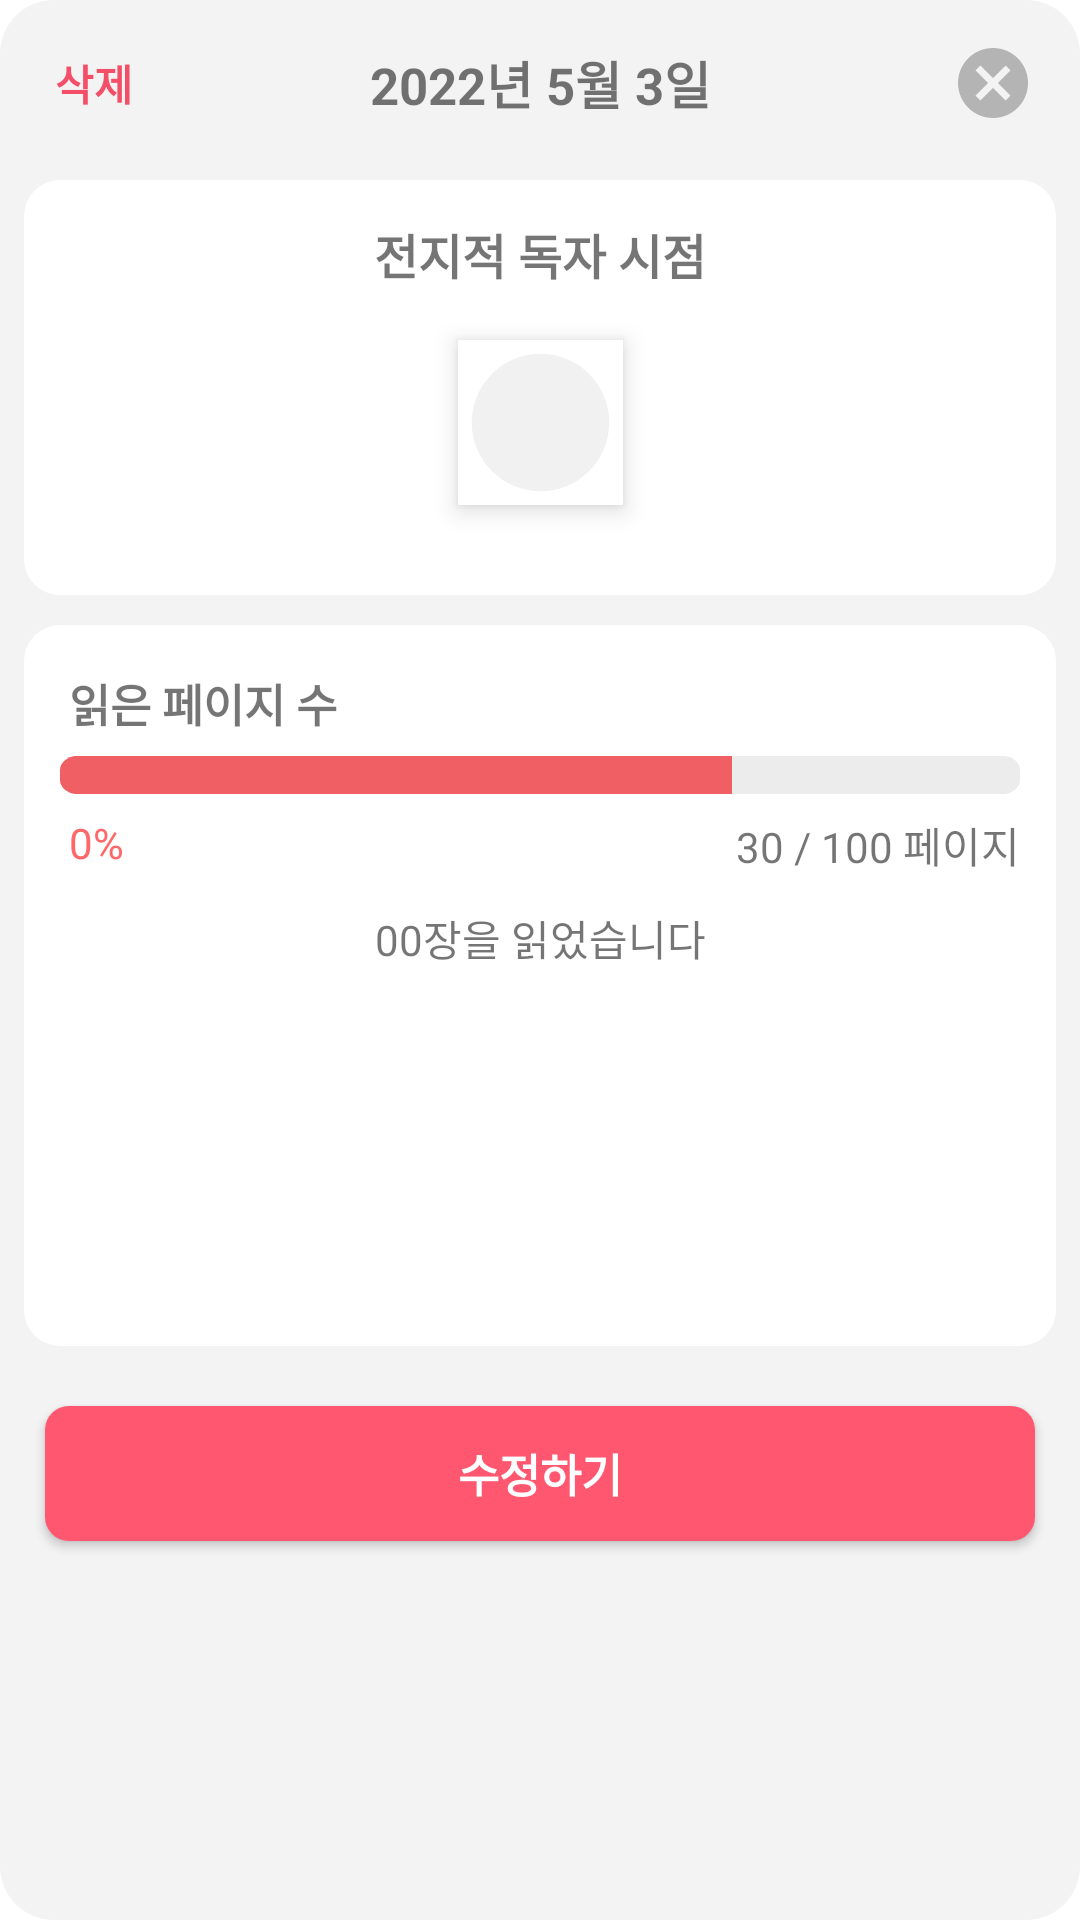

Icon bounding boxes for this 1080x1920 phone screenshot, format (x1, y1, x2, y2):
cancel: (958, 48, 1028, 118)
